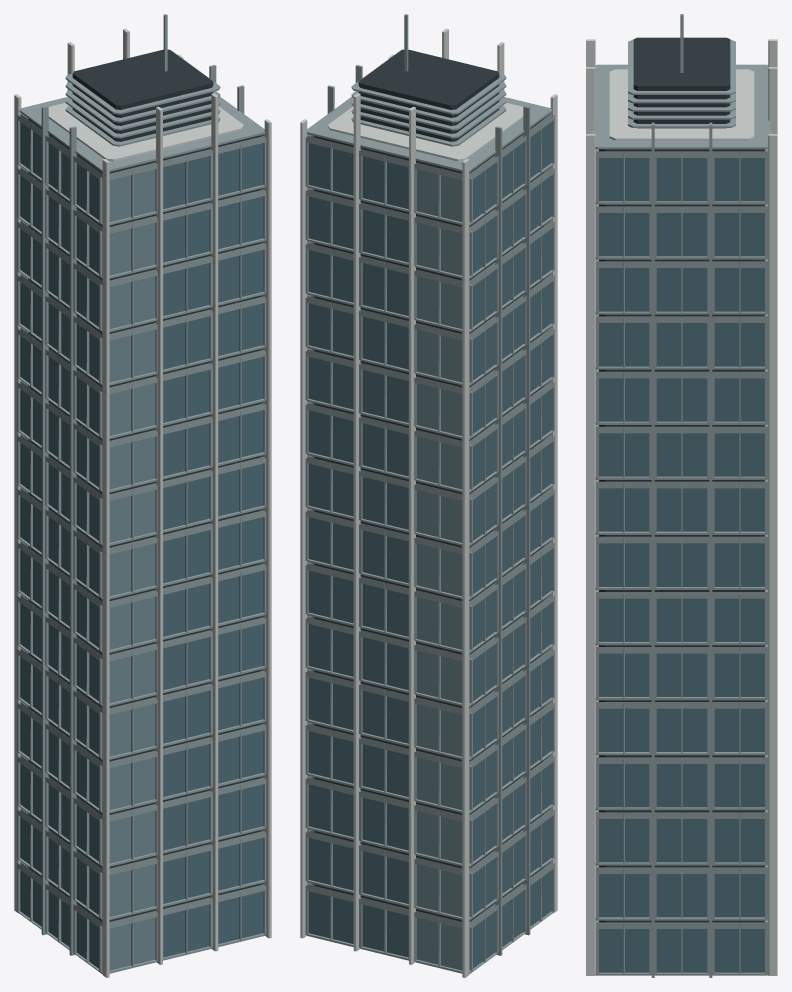
File: skyline-glass.glb
3 renders of one model, left to right at view 1: azimuth 30°, elevation 25°; view 2: azimuth 150°, elevation 25°; view 3: azimuth 270°, elevation 25°, orthographic. The views are drawn at different scales.
Parts seen in each view (by area): view 1: Miami vertical blue-glass tower; view 2: Miami vertical blue-glass tower; view 3: Miami vertical blue-glass tower.
Boxes of the visible parts, left/top/right/bottom form: Miami vertical blue-glass tower: left=14, top=14, right=271, bottom=977; Miami vertical blue-glass tower: left=300, top=14, right=557, bottom=977; Miami vertical blue-glass tower: left=586, top=14, right=777, bottom=977.
Size of the model in its own units: 10.68 by 53.25 by 9.92.
